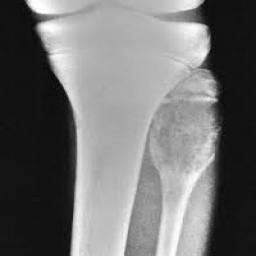cancer: (147, 74, 222, 256)
